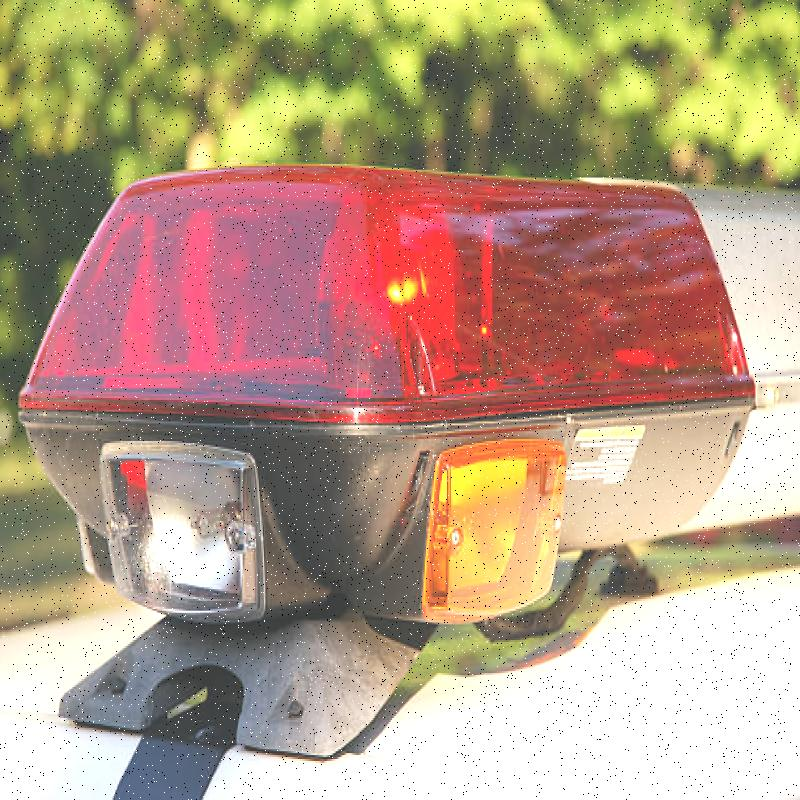AmbulanceSiren: (20, 128, 796, 691)
